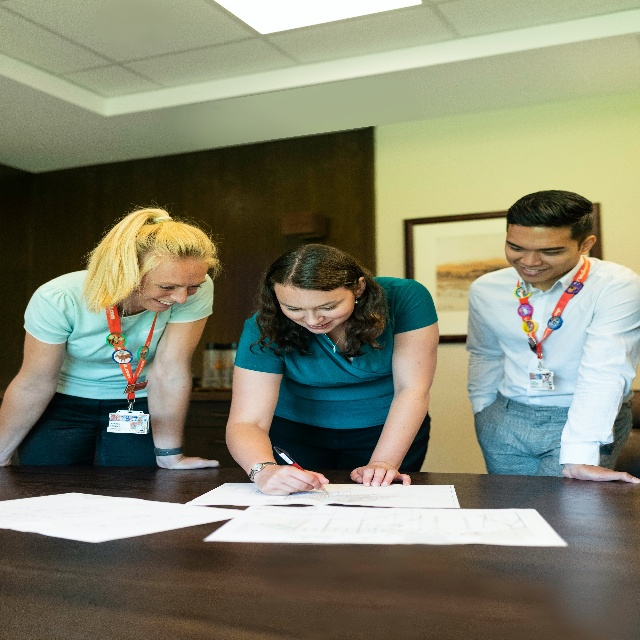Sin_guantes: (255, 464, 329, 495), (350, 461, 411, 487), (562, 463, 640, 483), (154, 448, 221, 469)
